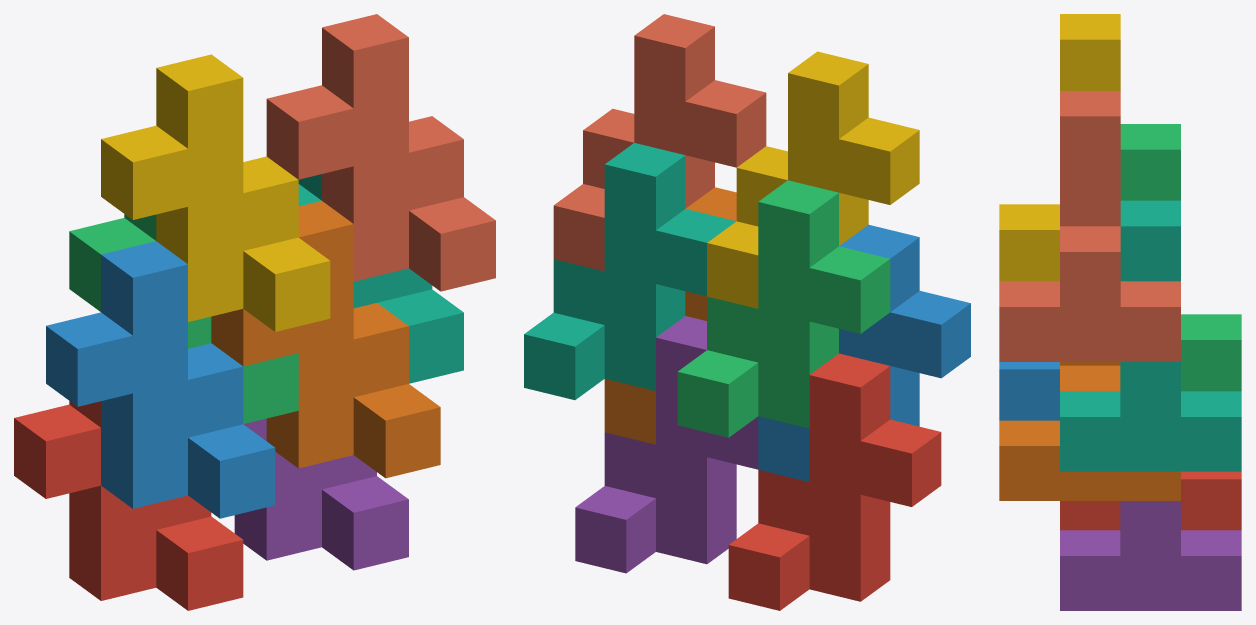
Rendered from tiling.obj.
3 views of the same model, side by side, from view 1: azimuth 30°, elevation 25°; view 2: azimuth 150°, elevation 25°; view 3: azimuth 270°, elevation 25° (orthographic). The views are drawn at different scales.
Visible parts, largest first — view 1: copy_1_domain_2, copy_1_domain_4, copy_1_domain_8, copy_1_domain_6, copy_1_domain_1, copy_1_domain_5, copy_1_domain_3, copy_1_domain_7; view 2: copy_1_domain_1, copy_1_domain_3, copy_1_domain_7, copy_1_domain_5, copy_1_domain_8, copy_1_domain_4, copy_1_domain_2, copy_1_domain_6; view 3: copy_1_domain_8, copy_1_domain_7, copy_1_domain_5, copy_1_domain_6, copy_1_domain_3, copy_1_domain_4, copy_1_domain_1, copy_1_domain_2.
Boxes of the visible parts, left/top/right/bottom form: copy_1_domain_2: left=46, top=241, right=275, bottom=518; copy_1_domain_4: left=101, top=54, right=330, bottom=331; copy_1_domain_8: left=266, top=14, right=495, bottom=291; copy_1_domain_6: left=211, top=200, right=440, bottom=478; copy_1_domain_1: left=14, top=401, right=243, bottom=610; copy_1_domain_5: left=234, top=418, right=408, bottom=570; copy_1_domain_3: left=69, top=214, right=298, bottom=423; copy_1_domain_7: left=298, top=174, right=463, bottom=383; copy_1_domain_1: left=728, top=353, right=941, bottom=610; copy_1_domain_3: left=677, top=180, right=890, bottom=437; copy_1_domain_7: left=524, top=143, right=735, bottom=399; copy_1_domain_5: left=575, top=316, right=758, bottom=573; copy_1_domain_8: left=553, top=14, right=766, bottom=271; copy_1_domain_4: left=707, top=51, right=919, bottom=308; copy_1_domain_2: left=758, top=224, right=970, bottom=481; copy_1_domain_6: left=604, top=187, right=736, bottom=444; copy_1_domain_8: left=999, top=91, right=1180, bottom=361; copy_1_domain_7: left=1060, top=200, right=1241, bottom=471; copy_1_domain_5: left=1060, top=501, right=1241, bottom=610; copy_1_domain_6: left=999, top=362, right=1180, bottom=500; copy_1_domain_3: left=1120, top=124, right=1241, bottom=391; copy_1_domain_4: left=999, top=14, right=1120, bottom=281; copy_1_domain_1: left=1060, top=471, right=1241, bottom=530; copy_1_domain_2: left=999, top=362, right=1059, bottom=420.
Bounding box in the file's own units: 7 × 9 × 4.
